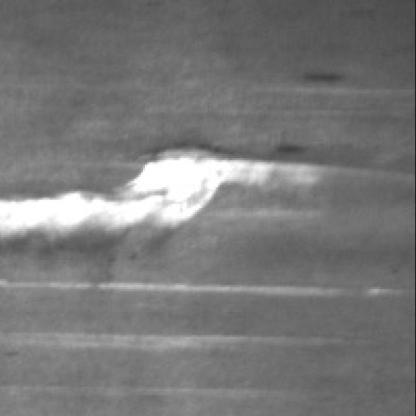scratches: (0, 150, 329, 250), (0, 329, 337, 362), (0, 278, 340, 303)
